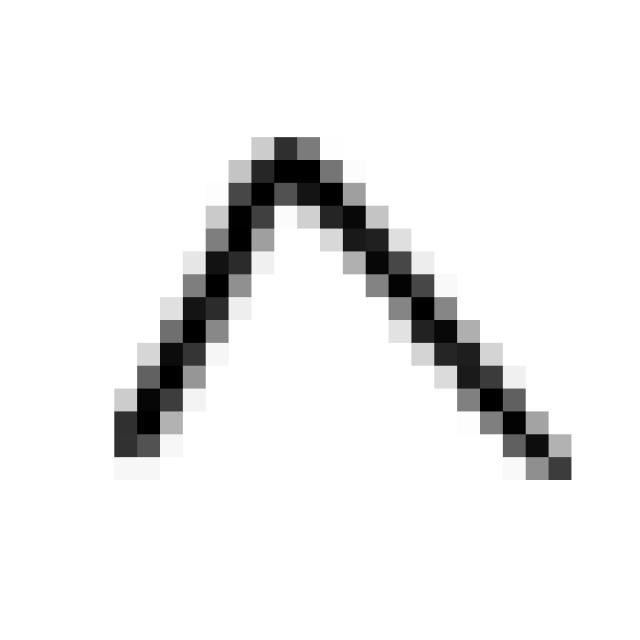8 -eight-: (94, 119, 587, 498)
